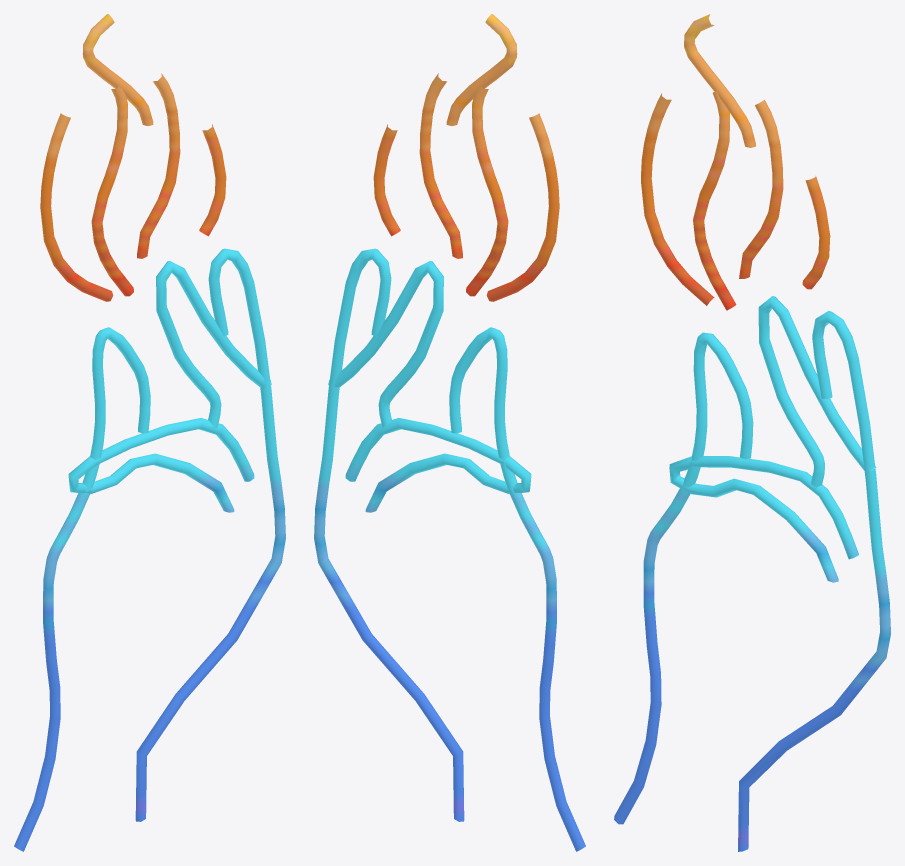
The model's file is b5d2360d-a336-4843-9982-c3dfab724029.glb.
3 renders of one model, left to right at view 1: azimuth 30°, elevation 25°; view 2: azimuth 150°, elevation 25°; view 3: azimuth 330°, elevation 25°, orthographic.
Parts seen in each view (by area): view 1: NeonCeilingTilesNeonLightSclpturesHand; view 2: NeonCeilingTilesNeonLightSclpturesHand; view 3: NeonCeilingTilesNeonLightSclpturesHand.
Part boxes in pixels (box(x1,y1,x2,y2)): NeonCeilingTilesNeonLightSclpturesHand: box(14, 14, 285, 851); NeonCeilingTilesNeonLightSclpturesHand: box(314, 14, 585, 851); NeonCeilingTilesNeonLightSclpturesHand: box(614, 14, 890, 851).
Size of what is drawn, in the model's own units: 0.7085 by 2.04 by 0.0241.
1 material, 1 textured.
